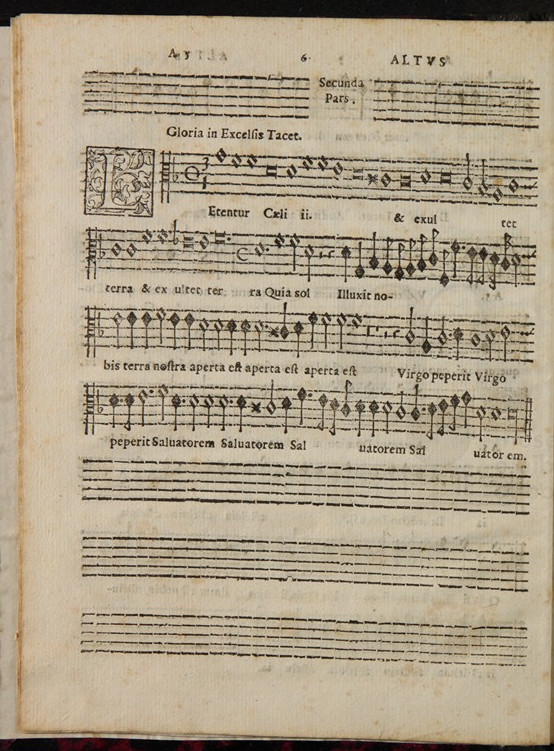Imin: (230, 238, 253, 269)
breve_4: (208, 226, 228, 249)
breve_5: (178, 231, 197, 255)
c clef_7: (82, 223, 98, 275)
custos_5: (521, 243, 541, 265)
flat_5: (168, 216, 180, 249)
flat_8: (96, 230, 107, 263)
fusa rest: (326, 232, 337, 276)
fusa_10: (392, 231, 407, 283)
fusa_11: (436, 248, 451, 293)
fusa_5: (478, 239, 490, 290), (463, 238, 479, 276)
fusa_7: (426, 222, 441, 272)
fusa_8: (416, 225, 430, 278)
fusa_9: (381, 227, 395, 280), (404, 230, 418, 277)
minim rest: (313, 231, 325, 276)
minim_4: (285, 227, 301, 275)
minim_6: (300, 235, 315, 277), (509, 248, 523, 276)
point: (260, 241, 273, 258), (456, 239, 467, 255)
semibreve_4: (135, 223, 154, 248), (153, 222, 171, 248), (277, 226, 287, 253)
semibreve_5: (195, 229, 212, 255)
semibreve_6: (251, 234, 266, 262)
semibreve_7: (108, 236, 122, 261), (123, 239, 137, 261)
semifusa_6: (486, 246, 500, 294)
semifusa_7: (499, 227, 513, 277)
semiminim_10: (353, 235, 366, 283)
semiminim_4: (449, 233, 460, 280)
semiminim_6: (339, 232, 351, 280)
semiminim_8: (366, 226, 380, 275)
